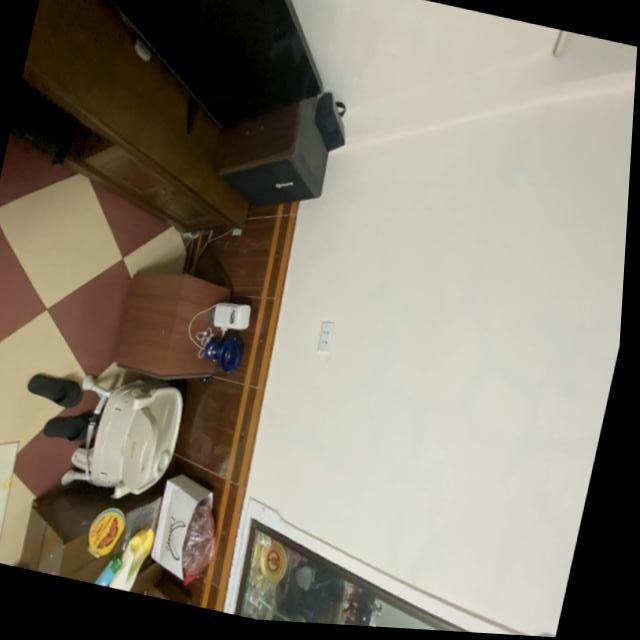outlet: (316, 319, 337, 354)
